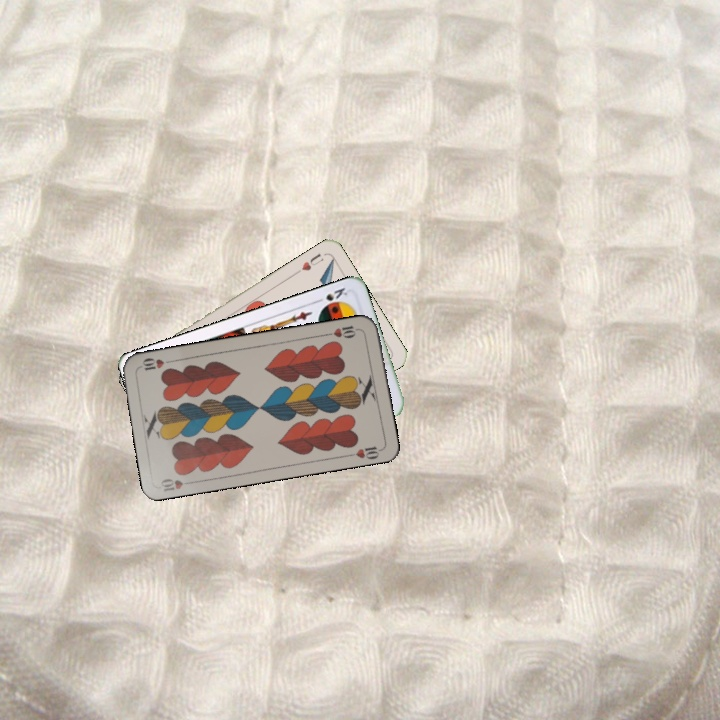H10: (322, 321, 363, 341), (157, 475, 197, 494)
HU: (291, 249, 326, 277)
SK: (311, 283, 350, 306)
